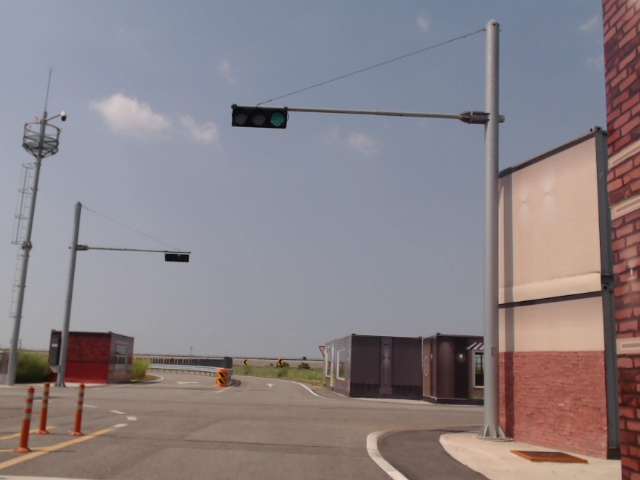green_3: (232, 107, 287, 129)
